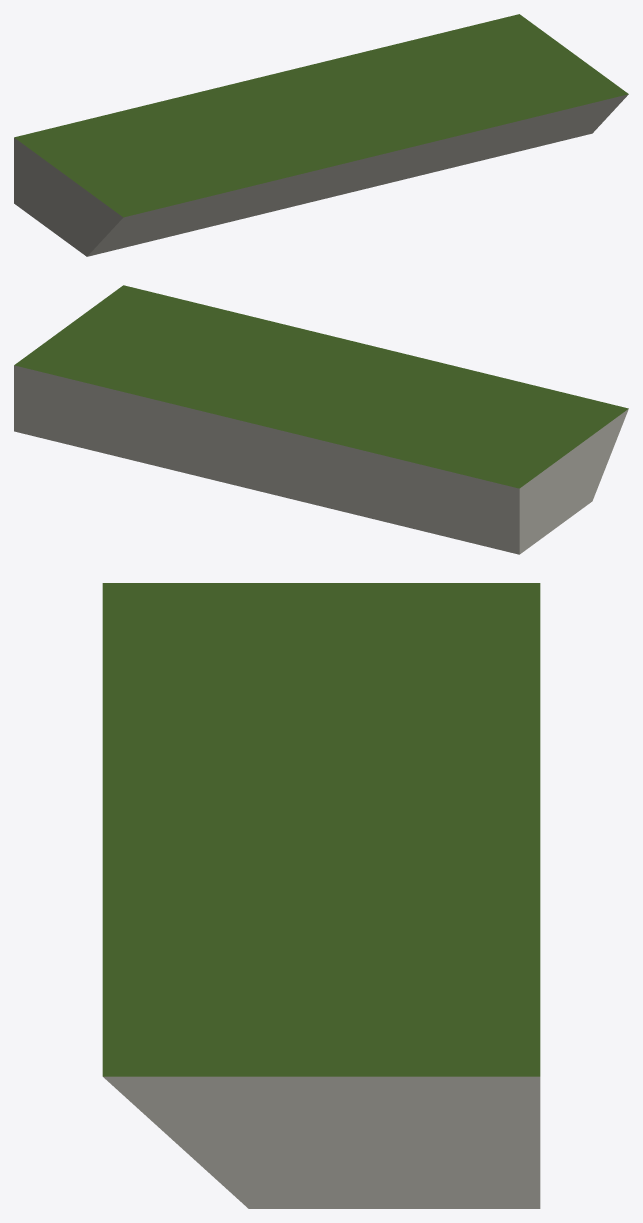
The model's file is Terrain_Tile_Grass_Rock_Ledge_02.fbx.
The picture shows the model from 3 angles, top to bottom: view 1: azimuth 30°, elevation 25°; view 2: azimuth 150°, elevation 25°; view 3: azimuth 270°, elevation 25°; orthographic projection. The views are drawn at different scales.
Parts seen in each view (by area): view 1: Terrain_Tile_Grass_Rock_Ledge_02; view 2: Terrain_Tile_Grass_Rock_Ledge_02; view 3: Terrain_Tile_Grass_Rock_Ledge_02.
Boxes of the visible parts, <box> form: Terrain_Tile_Grass_Rock_Ledge_02: <box>14,14,628,256</box>; Terrain_Tile_Grass_Rock_Ledge_02: <box>14,285,628,554</box>; Terrain_Tile_Grass_Rock_Ledge_02: <box>102,583,540,1208</box>.
Bounding box in the file's own units: 126 × 15.75 × 47.24.
